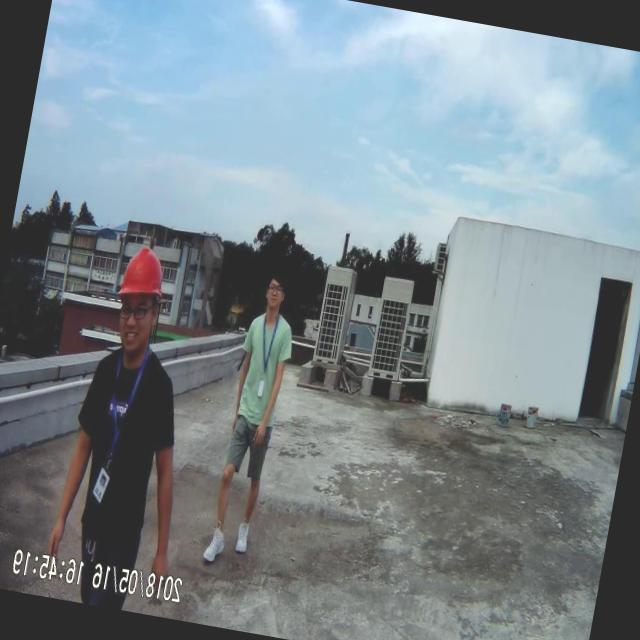helmet: (110, 234, 174, 326)
no-helmet: (257, 259, 294, 310)
no-vest: (49, 332, 189, 550), (230, 298, 296, 431)
